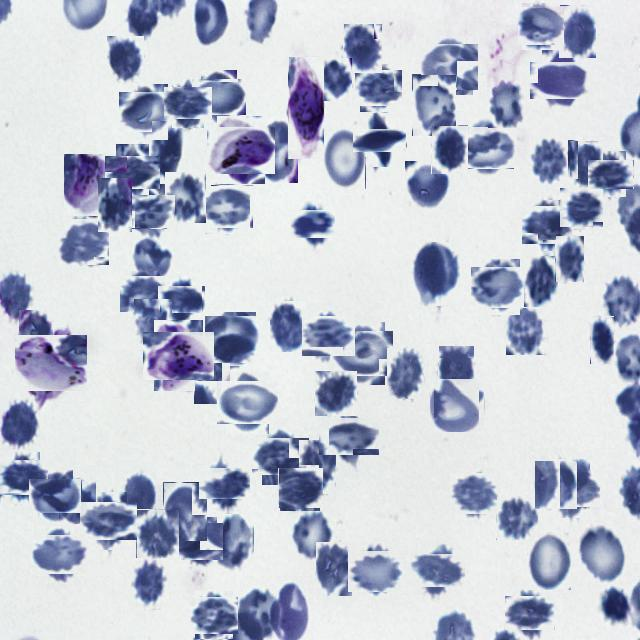difficult: (212, 121, 270, 179)
gametocyte: (288, 56, 324, 159)
red blood cell: (413, 242, 460, 306), (335, 326, 389, 381), (578, 525, 626, 586), (322, 126, 366, 189), (222, 376, 274, 429), (255, 119, 298, 183), (412, 74, 456, 136), (424, 41, 476, 92), (462, 122, 513, 173), (206, 314, 258, 364), (163, 482, 207, 541), (526, 533, 571, 590), (352, 546, 402, 596), (58, 218, 108, 268), (474, 262, 524, 312), (432, 380, 482, 430), (211, 514, 254, 571), (34, 530, 84, 579), (536, 56, 586, 105), (202, 182, 250, 232), (324, 412, 374, 460), (124, 88, 172, 136), (547, 464, 595, 512), (304, 312, 352, 360), (84, 497, 132, 545), (405, 161, 450, 212), (257, 433, 305, 480), (194, 342, 230, 404), (196, 74, 242, 120), (452, 471, 498, 517), (136, 509, 179, 558), (534, 460, 577, 509), (292, 508, 334, 558), (165, 172, 206, 223), (300, 440, 338, 494), (506, 304, 546, 355), (124, 190, 170, 234), (134, 299, 172, 352), (416, 548, 460, 593), (559, 5, 596, 58), (343, 23, 382, 73), (316, 542, 352, 596), (0, 456, 44, 500), (525, 204, 569, 248), (34, 474, 78, 518), (110, 150, 154, 194), (530, 138, 570, 186), (177, 520, 220, 564), (278, 467, 322, 510), (315, 371, 357, 416), (132, 559, 169, 610), (387, 348, 424, 399), (0, 400, 39, 448), (488, 78, 525, 128), (496, 496, 538, 540), (508, 592, 552, 634), (270, 301, 306, 352), (98, 178, 132, 232), (431, 125, 468, 174), (520, 5, 562, 48), (192, 594, 235, 636), (438, 345, 474, 395), (18, 309, 53, 360), (152, 121, 183, 178), (357, 67, 399, 109), (204, 462, 246, 504), (58, 478, 96, 524), (524, 256, 558, 307), (107, 36, 144, 82), (560, 188, 602, 228), (570, 140, 604, 189), (168, 83, 208, 124), (121, 274, 162, 314), (133, 240, 176, 277), (360, 121, 400, 160), (123, 473, 156, 520), (163, 280, 201, 318), (592, 156, 630, 193), (320, 58, 352, 101), (555, 235, 584, 282), (295, 206, 331, 242), (600, 584, 631, 623), (590, 316, 614, 364)
ring: (18, 332, 82, 396)
trophozoite: (148, 326, 208, 386), (64, 154, 112, 217)
